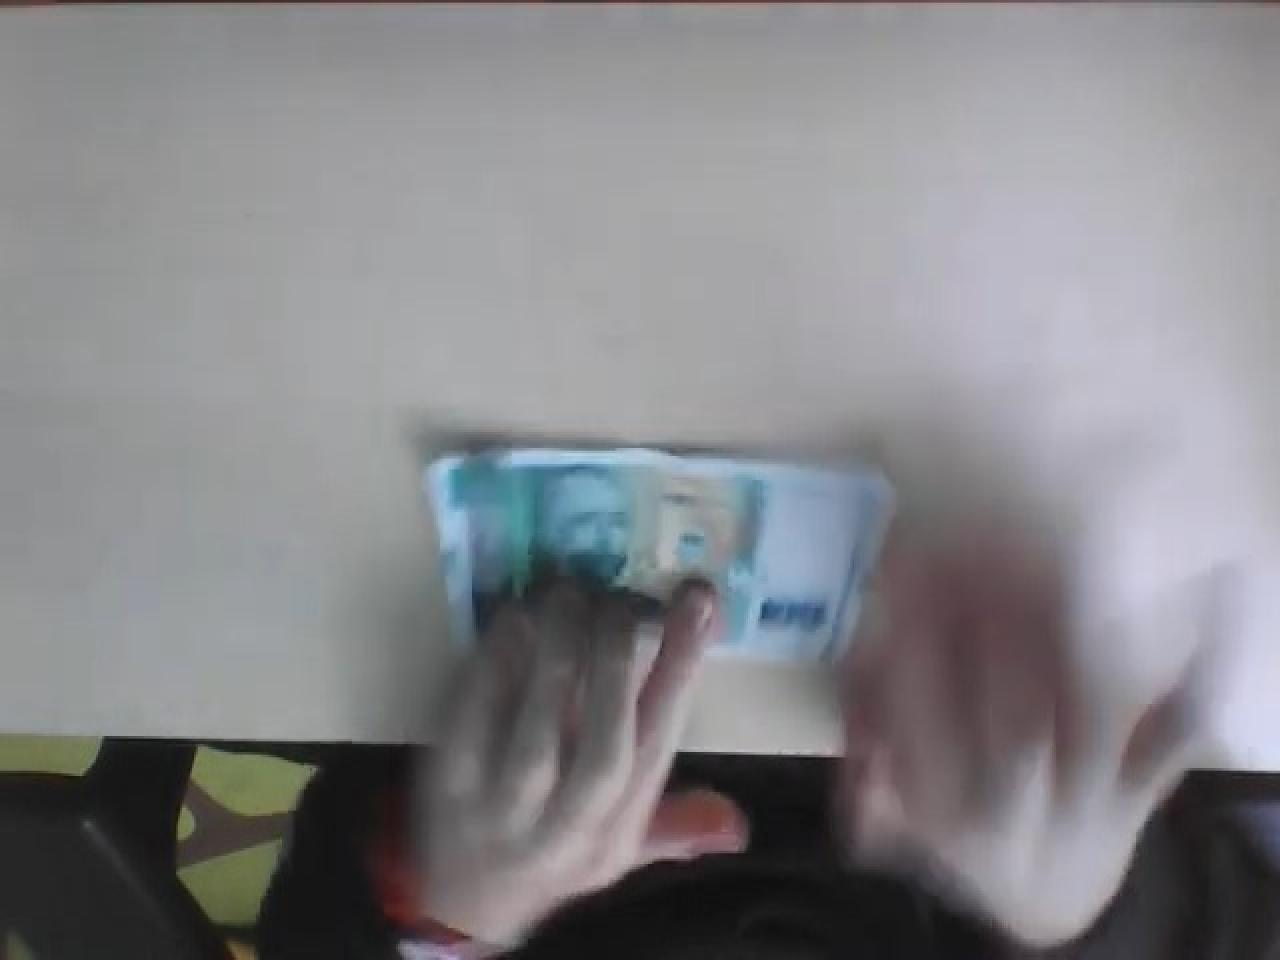100leva: (422, 441, 898, 675)
